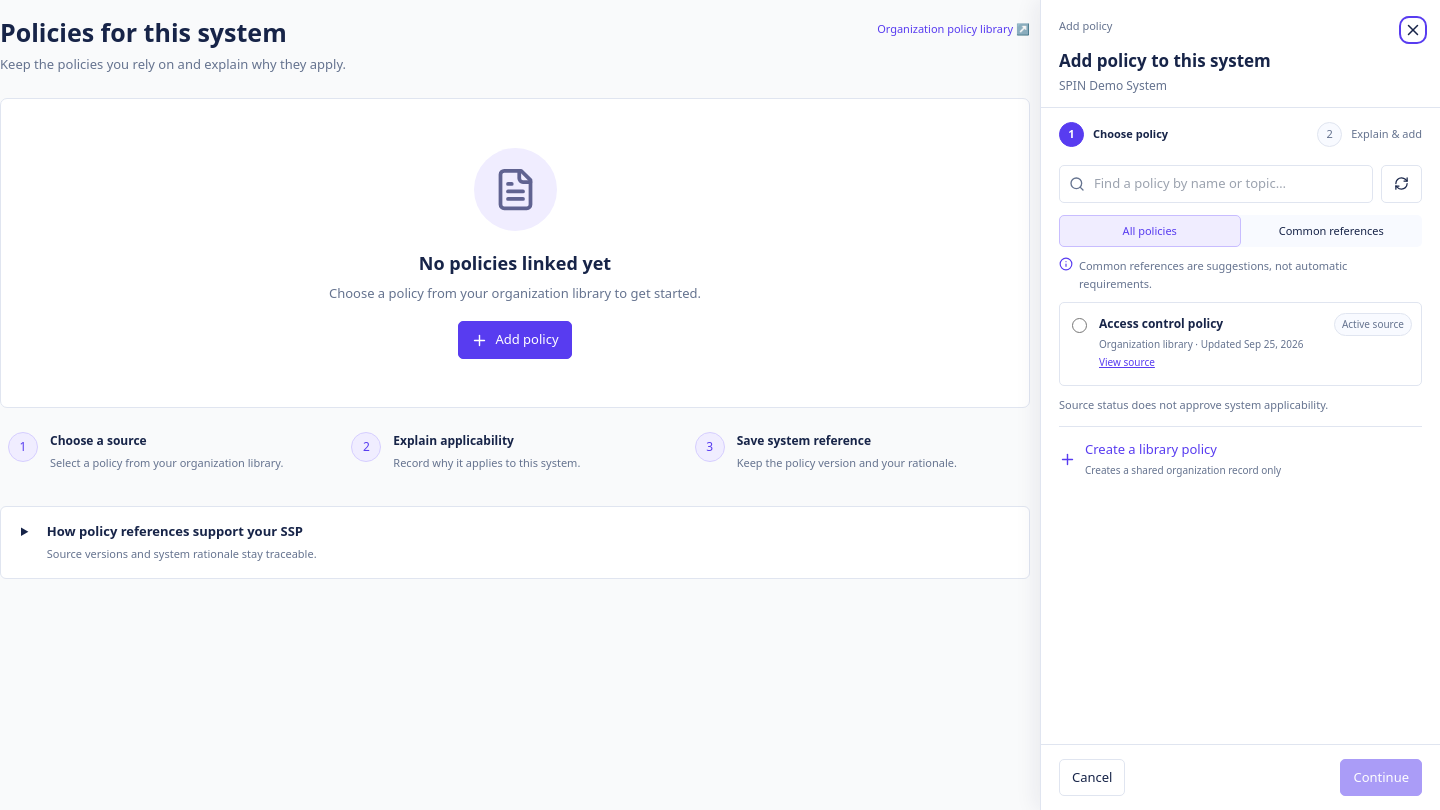
Test case: System policy workspace › does not write on selection, Back or Cancel
The width and height of the screenshot is (1440, 810).
Click the radio button labelled "Access control policy".
click(1080, 326)  # box [1072, 318, 1087, 333]
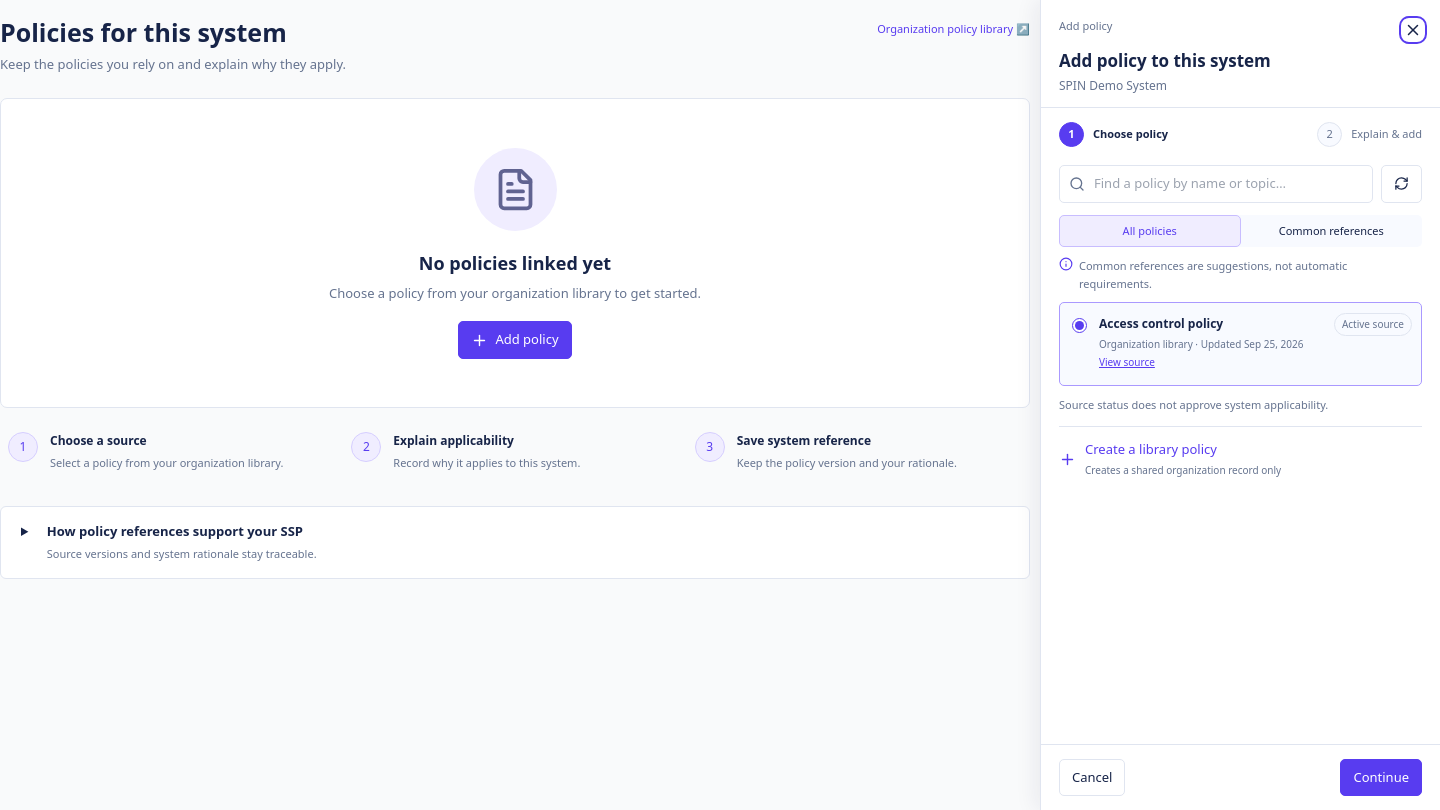
Click the button "Continue".
click(1381, 777)  # box [1340, 758, 1422, 796]
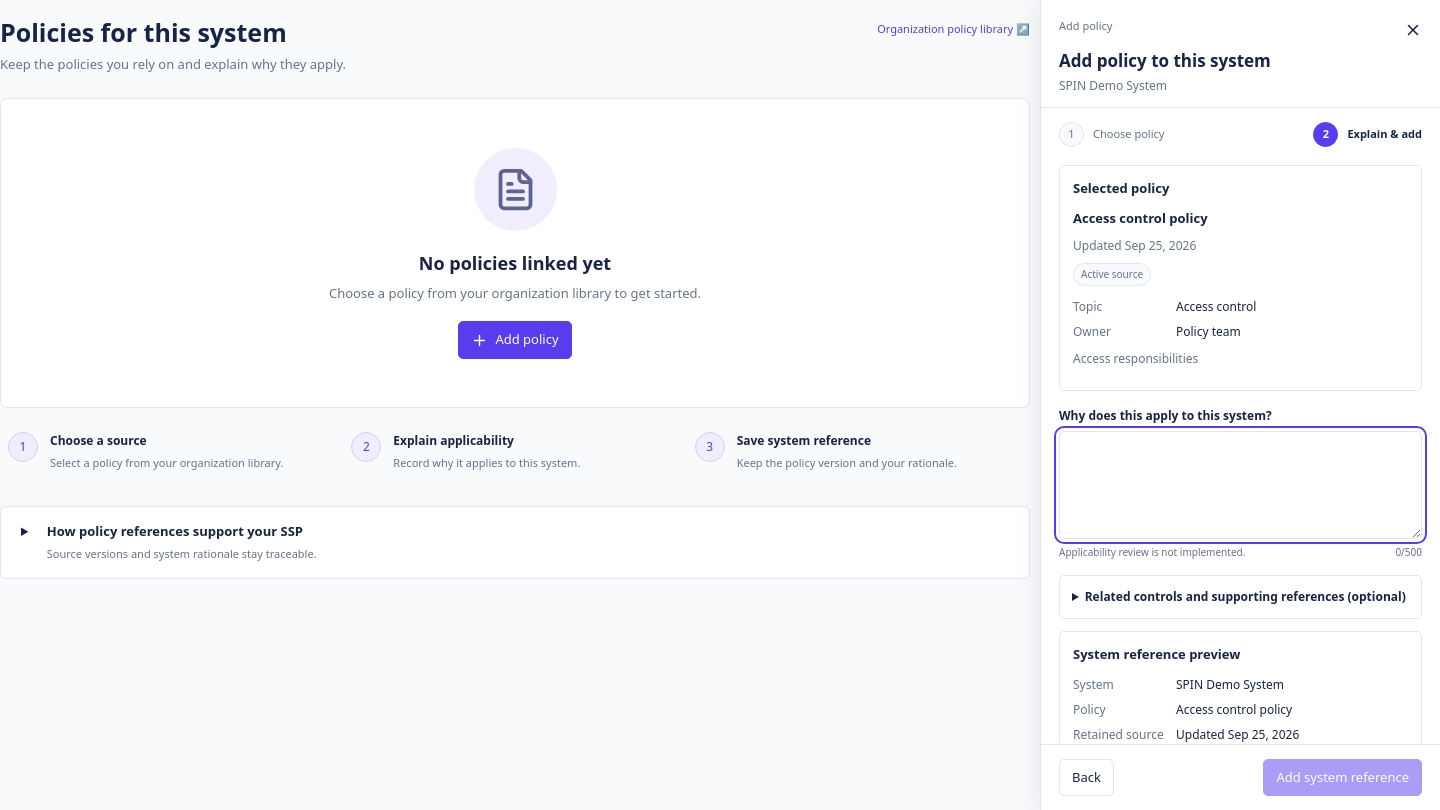
Click the button "Back".
click(1086, 777)  # box [1059, 758, 1114, 796]
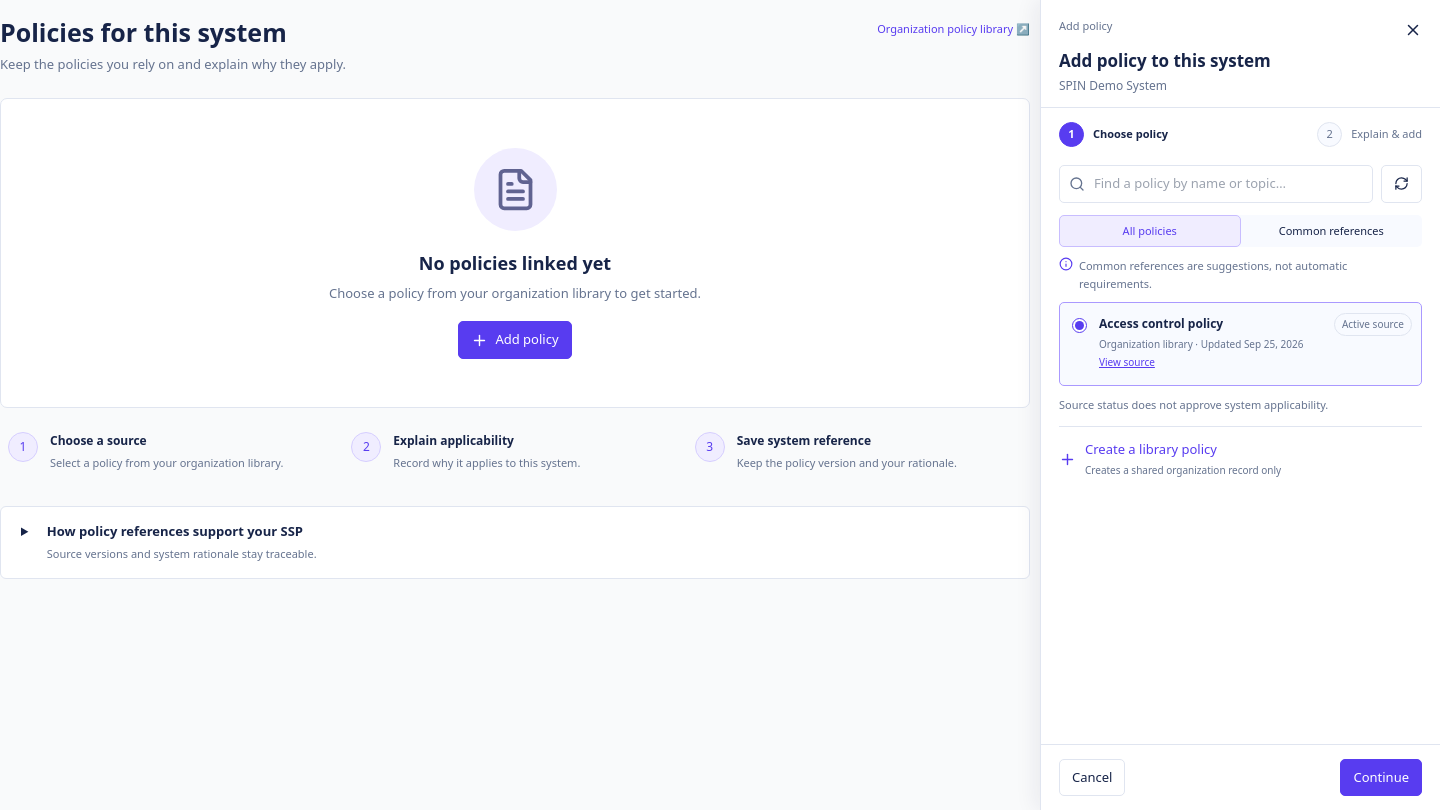
Press Tab
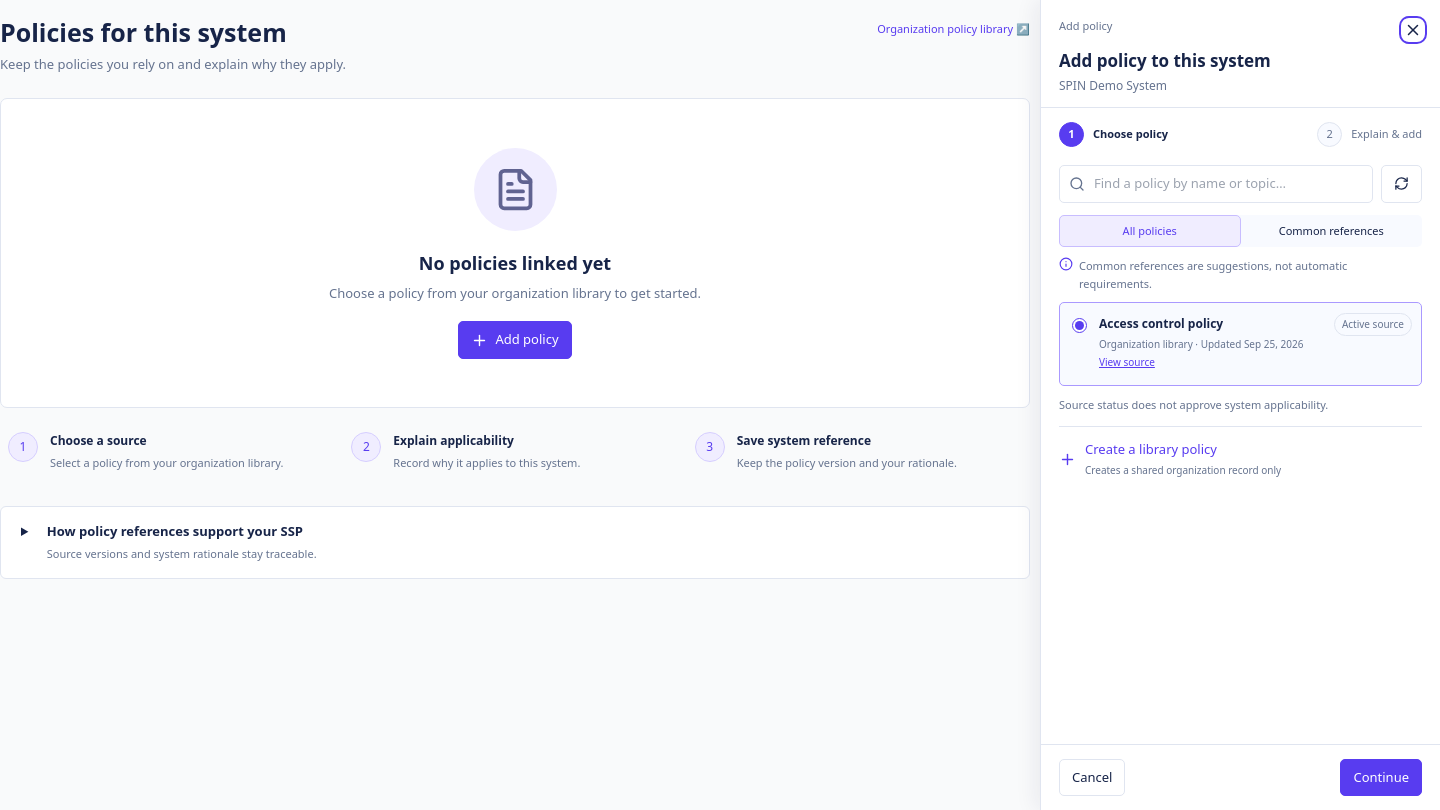
Click the button "Cancel".
click(1092, 777)  # box [1059, 758, 1126, 796]
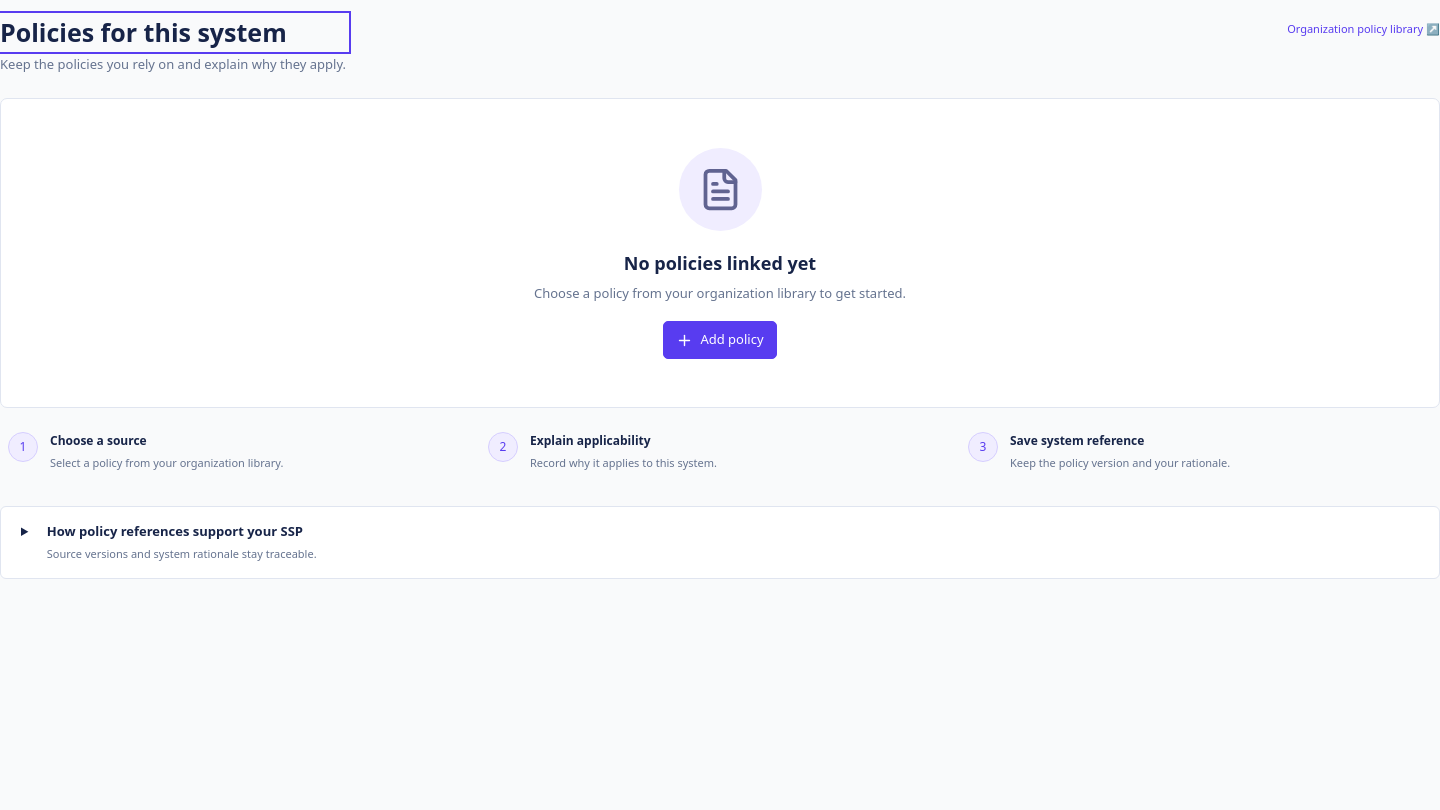
Check: the dialog is gone
